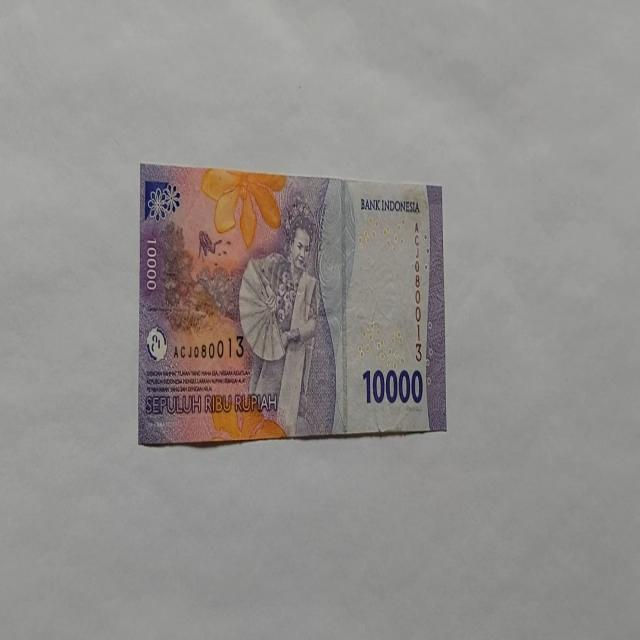sepuluh ribu rupiah: (138, 164, 446, 446)
